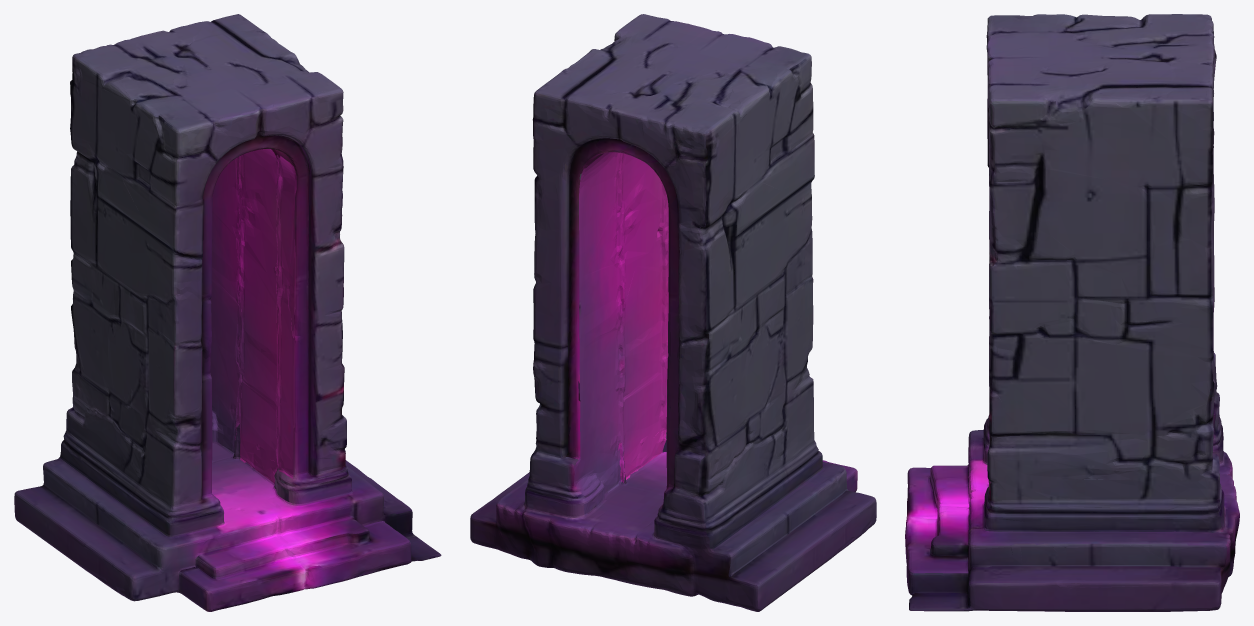
Rendered from solitude-pillar-12-generated-2026-04-19T23-57-40-585Z.low.glb.
3 views of the same model, side by side, from view 1: azimuth 30°, elevation 25°; view 2: azimuth 150°, elevation 25°; view 3: azimuth 270°, elevation 25° (orthographic). The views are drawn at different scales.
Visible parts, largest first — view 1: temp_mesh.ply; view 2: temp_mesh.ply; view 3: temp_mesh.ply.
Boxes of the visible parts, x1,y1,x2,y2 form: temp_mesh.ply: (14,14,441,611); temp_mesh.ply: (470,14,876,611); temp_mesh.ply: (905,14,1239,611).
Size of the model in its own units: 1.28 by 1.97 by 1.24.
Materials: 1 (1 with a texture image).
